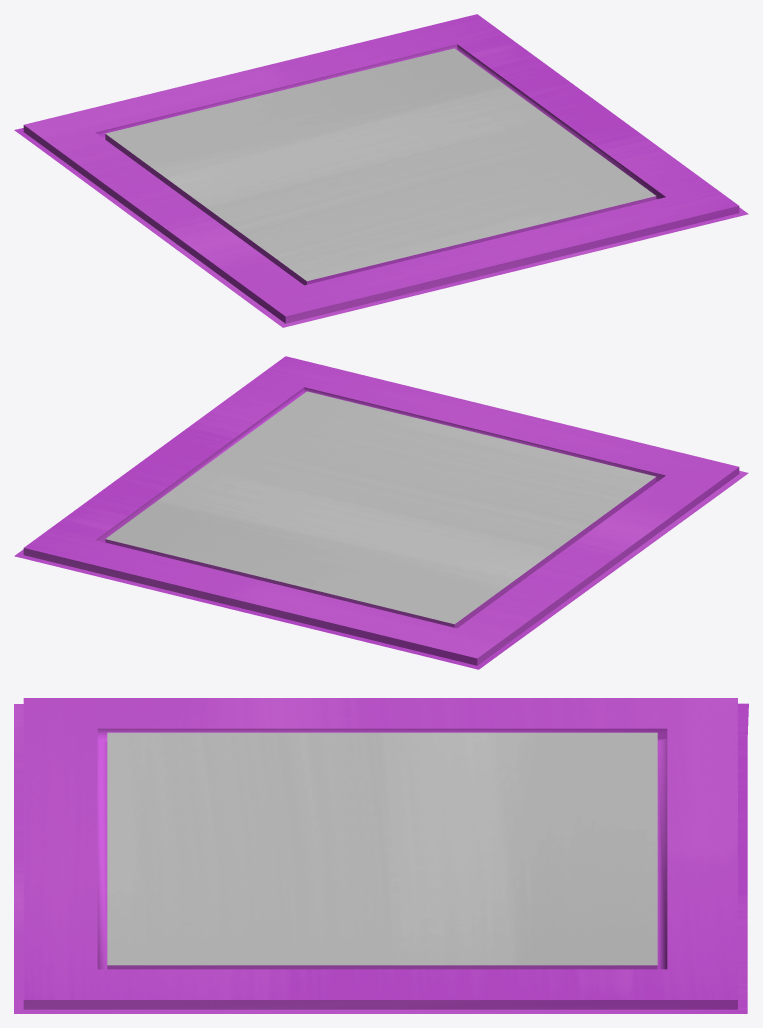
Rendered from Floor.fbx.
3 views of the same model, one above another, from view 1: azimuth 30°, elevation 25°; view 2: azimuth 150°, elevation 25°; view 3: azimuth 270°, elevation 25° (orthographic). The views are drawn at different scales.
Parts seen in each view (by area): view 1: fLOOR; view 2: fLOOR; view 3: fLOOR.
Boxes of the visible parts, <box> form: fLOOR: <box>14,14,748,327</box>; fLOOR: <box>14,356,748,669</box>; fLOOR: <box>14,698,748,1013</box>.
Size of the model in its own units: 200 by 2.99 by 200.
